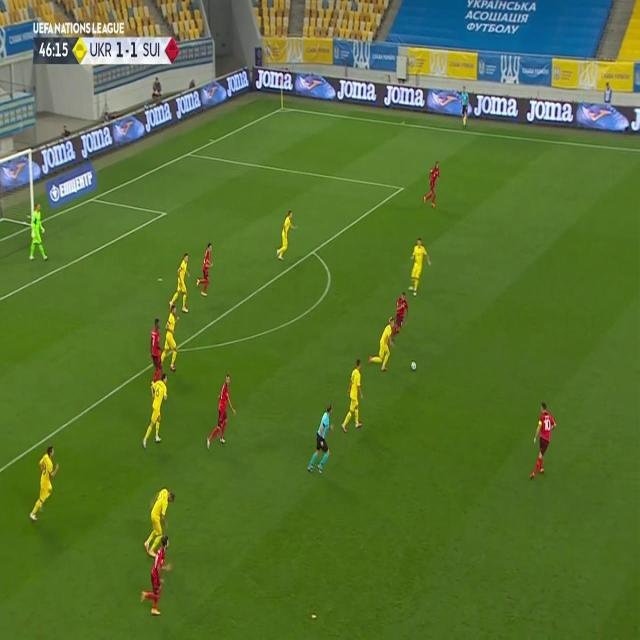ball: (410, 359, 417, 371)
player: (140, 534, 172, 619), (28, 444, 62, 522), (142, 486, 176, 558), (207, 373, 238, 449), (529, 400, 557, 478), (366, 311, 400, 373), (142, 370, 170, 445), (307, 402, 335, 474), (342, 357, 365, 432), (408, 236, 432, 296), (162, 298, 180, 372), (169, 252, 191, 312), (26, 202, 48, 260), (274, 209, 296, 259), (148, 316, 164, 381), (196, 241, 214, 298), (422, 160, 442, 208), (394, 292, 408, 342), (460, 85, 470, 128)
